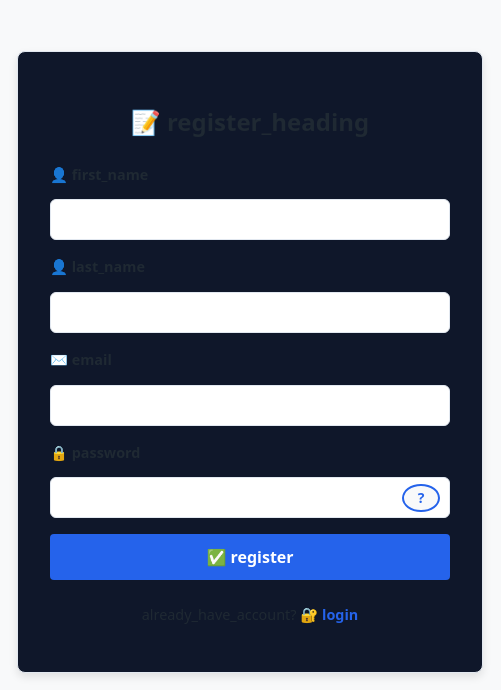
RegisterPage Component › Şifre 8 karakterden az ise hata vermeli
Type "Tuna" into the field labelled "👤 first_name".
click(250, 220); type("Tuna")  # box [50, 199, 450, 240]
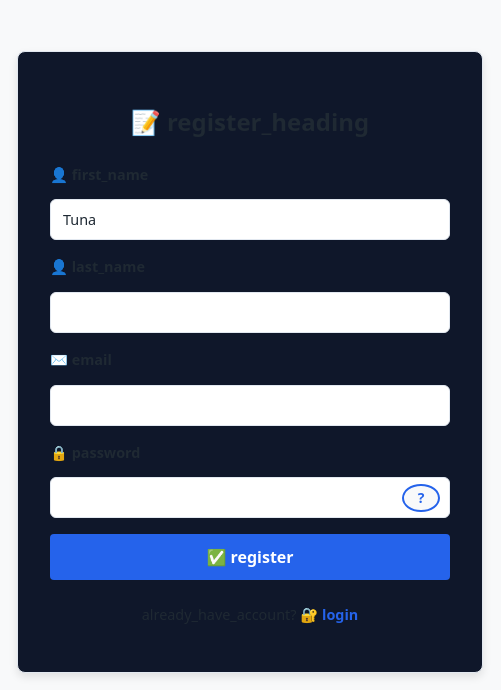
Type "Test" into the field labelled "👤 last_name".
click(250, 312); type("Test")  # box [50, 292, 450, 333]
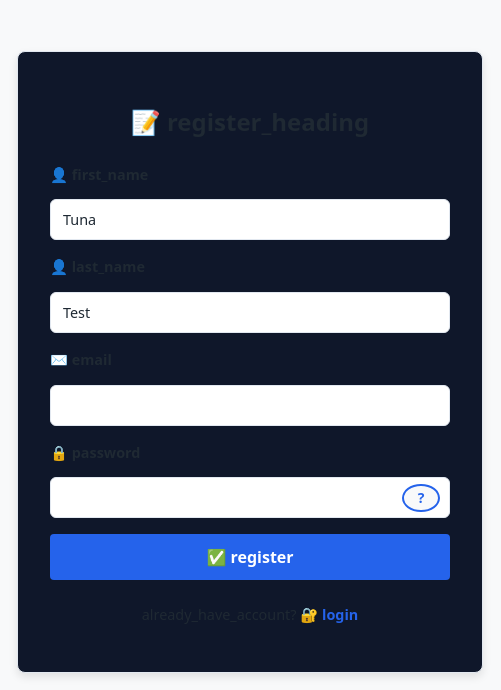
Type "tuna@test.com" into the field labelled "✉️ email".
click(250, 405); type("tuna@test.com")  # box [50, 385, 450, 426]
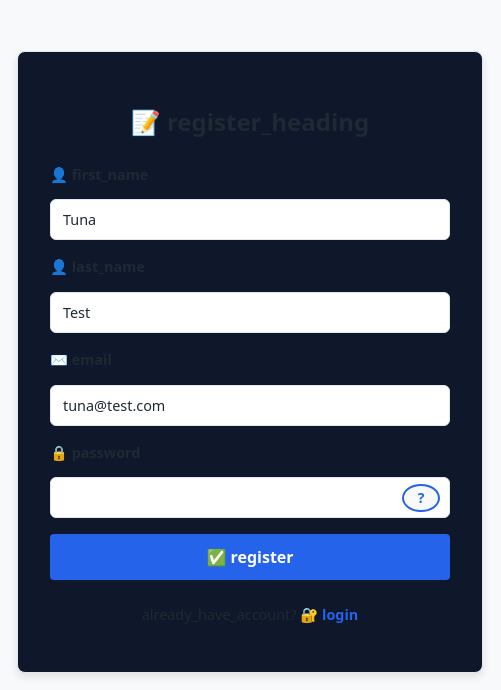
Type "123" into the password field labelled "🔒 password".
click(250, 498); type("123")  # box [50, 477, 450, 518]
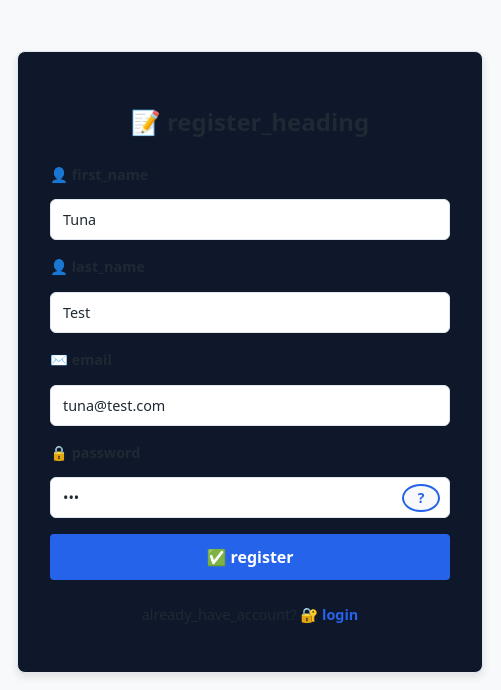
Click the button "✅ register".
click(250, 557)  # box [50, 534, 450, 580]
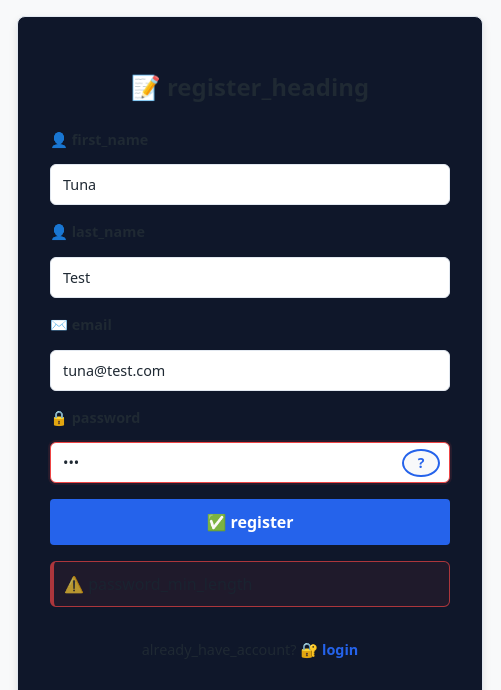
Now the text "⚠️ password_min_length" is shown, box [50, 561, 450, 607]
